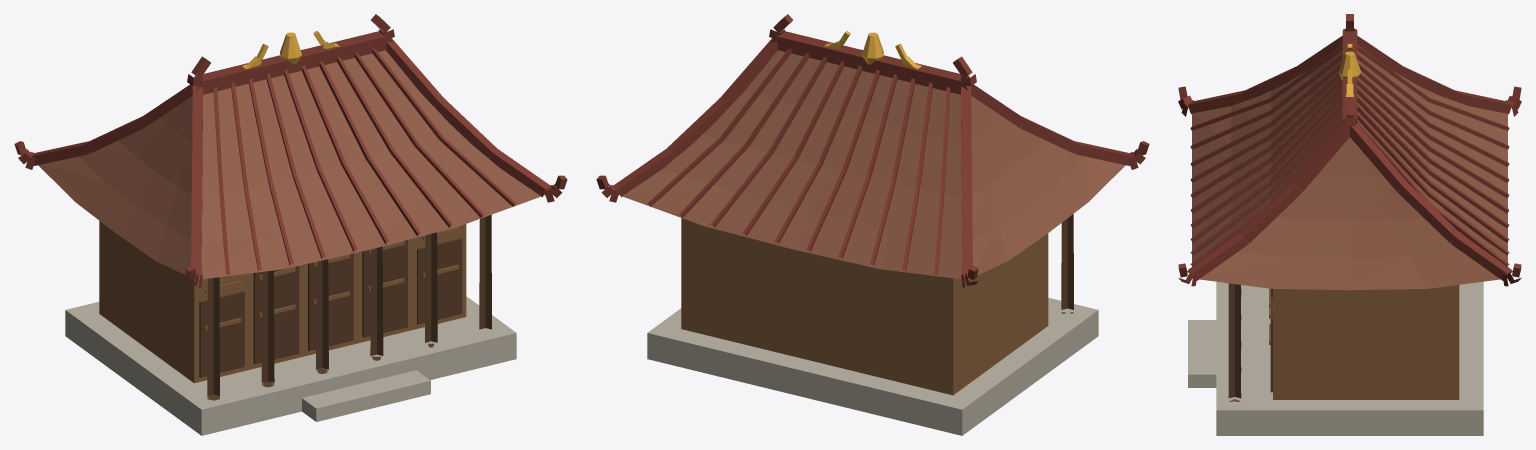
Rendered from viet_house_ruong.glb.
3 renders of one model, left to right at view 1: azimuth 30°, elevation 25°; view 2: azimuth 150°, elevation 25°; view 3: azimuth 270°, elevation 25°, orthographic.
Visible parts, largest first — view 1: viet_house_ruong; view 2: viet_house_ruong; view 3: viet_house_ruong.
Boxes of the visible parts, bbox=[...] form: viet_house_ruong: bbox=[14, 14, 567, 435]; viet_house_ruong: bbox=[596, 14, 1149, 435]; viet_house_ruong: bbox=[1178, 14, 1521, 435].
Size of the model in its own units: 1 by 0.7902 by 0.8019.
